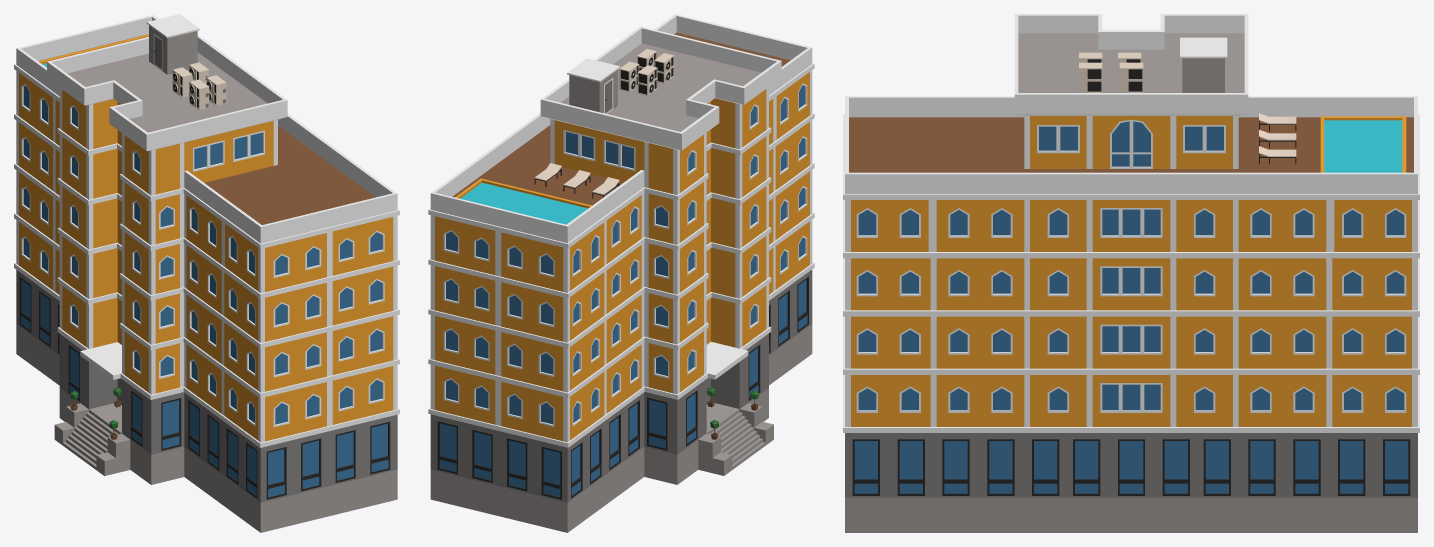
Rendered from building_4.fbx.
The picture shows the model from 3 angles, left to right: view 1: azimuth 30°, elevation 25°; view 2: azimuth 150°, elevation 25°; view 3: azimuth 270°, elevation 25°; orthographic projection. The views are drawn at different scales.
Visible parts, largest first — view 1: building_4; view 2: building_4; view 3: building_4.
Boxes of the visible parts, <box> form: building_4: <box>14,14,399,532</box>; building_4: <box>428,14,814,532</box>; building_4: <box>843,14,1419,532</box>.
Size of the model in its own units: 1.37 by 2.52 by 2.96.
